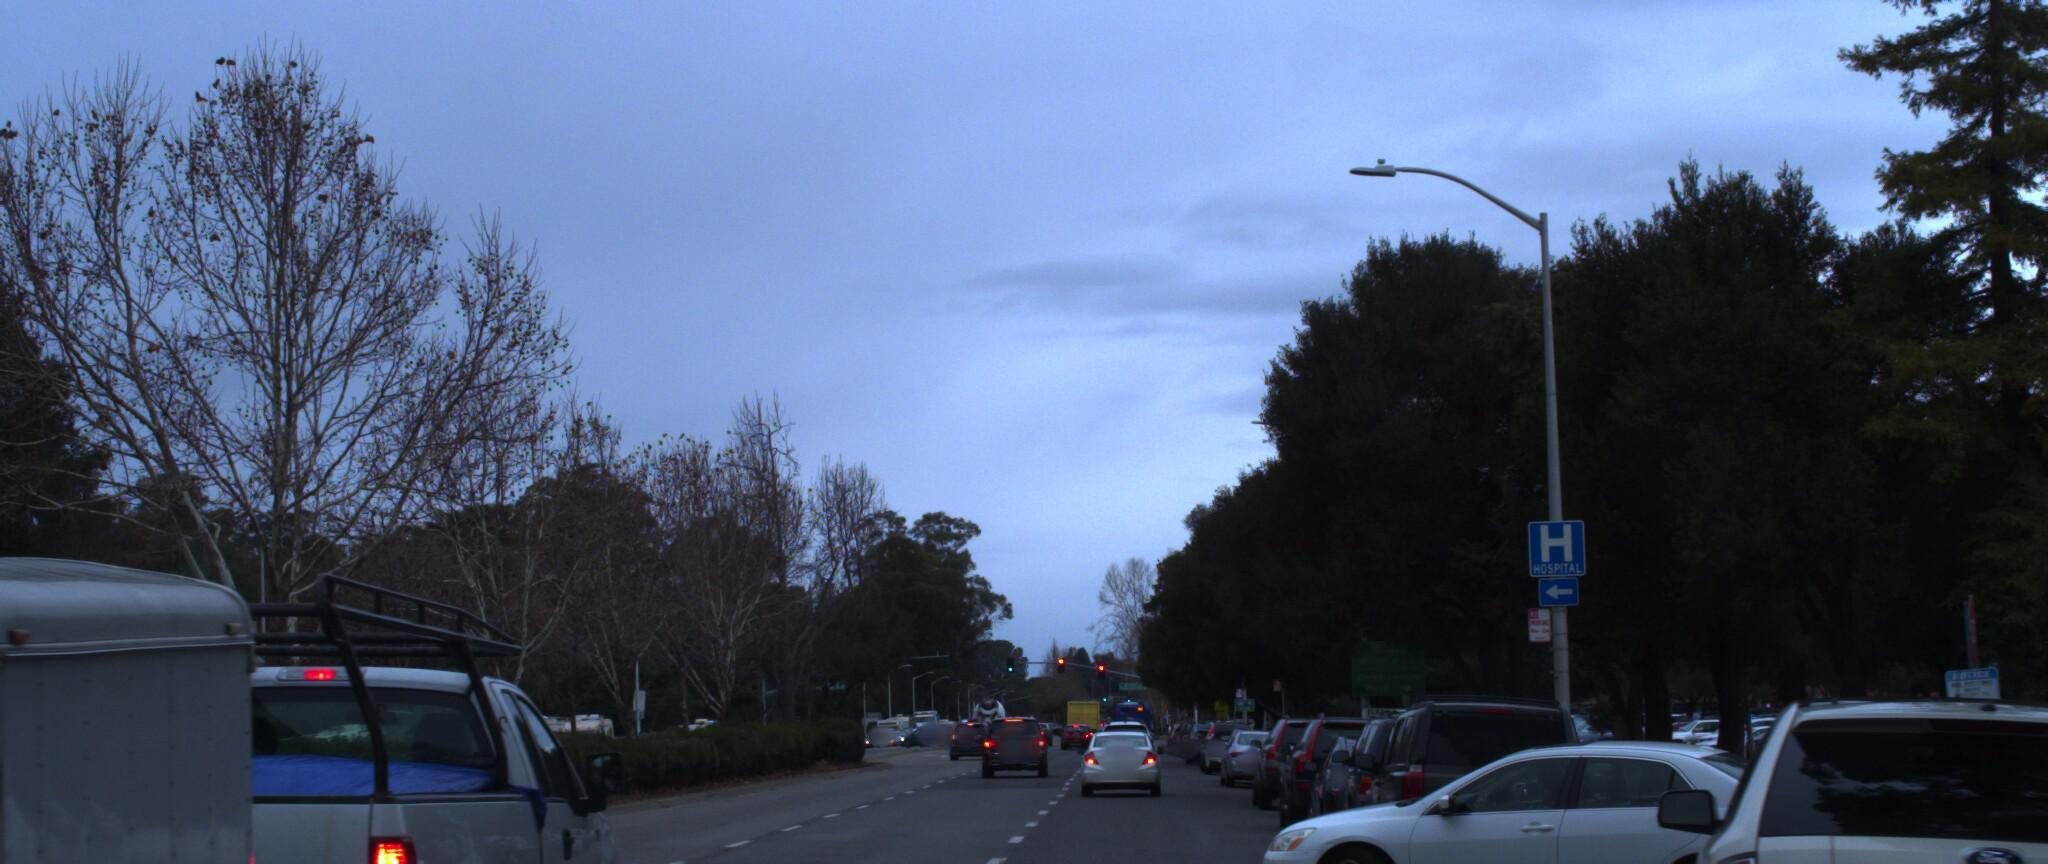car: (0, 471, 684, 864), (1209, 703, 1860, 864), (1627, 655, 2048, 864), (1335, 670, 1601, 864), (1311, 688, 1506, 856), (1289, 714, 1445, 842), (1266, 694, 1409, 831), (1233, 694, 1351, 801), (1078, 713, 1165, 787)
